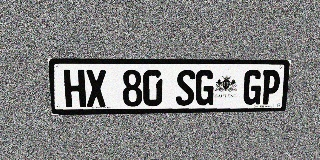0: (143, 70, 163, 106)
8: (122, 70, 142, 107)
G: (242, 70, 263, 105), (195, 70, 215, 105)
H: (63, 70, 86, 107)
P: (260, 70, 281, 104)
S: (176, 70, 196, 106)
X: (85, 70, 107, 107)
